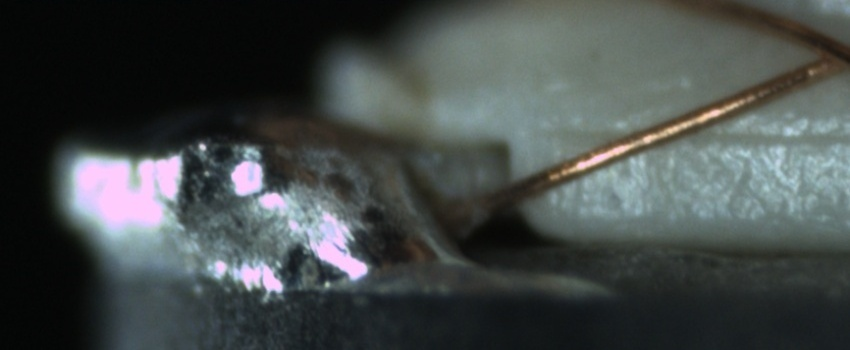CL: (795, 28, 850, 84)
DL: (547, 104, 850, 169)
